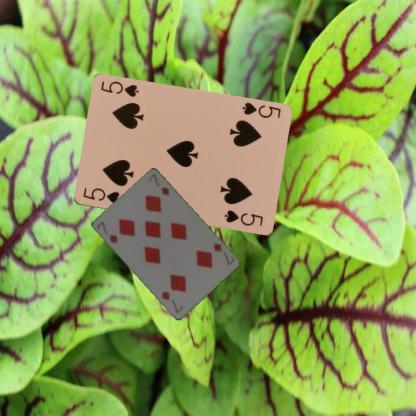5s: (80, 186, 122, 206), (240, 100, 282, 120)
7d: (210, 240, 236, 267), (93, 218, 118, 244)
